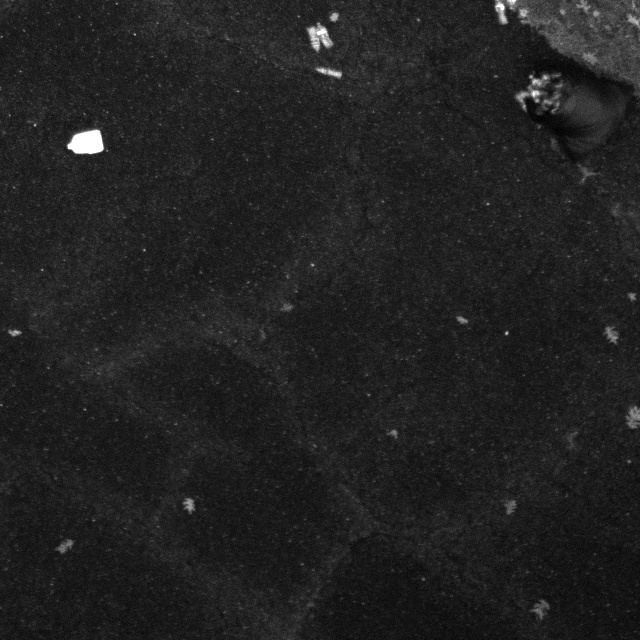bottle: (314, 13, 338, 51), (313, 65, 341, 83), (526, 78, 542, 105), (304, 26, 316, 55)
can: (64, 127, 108, 159)
